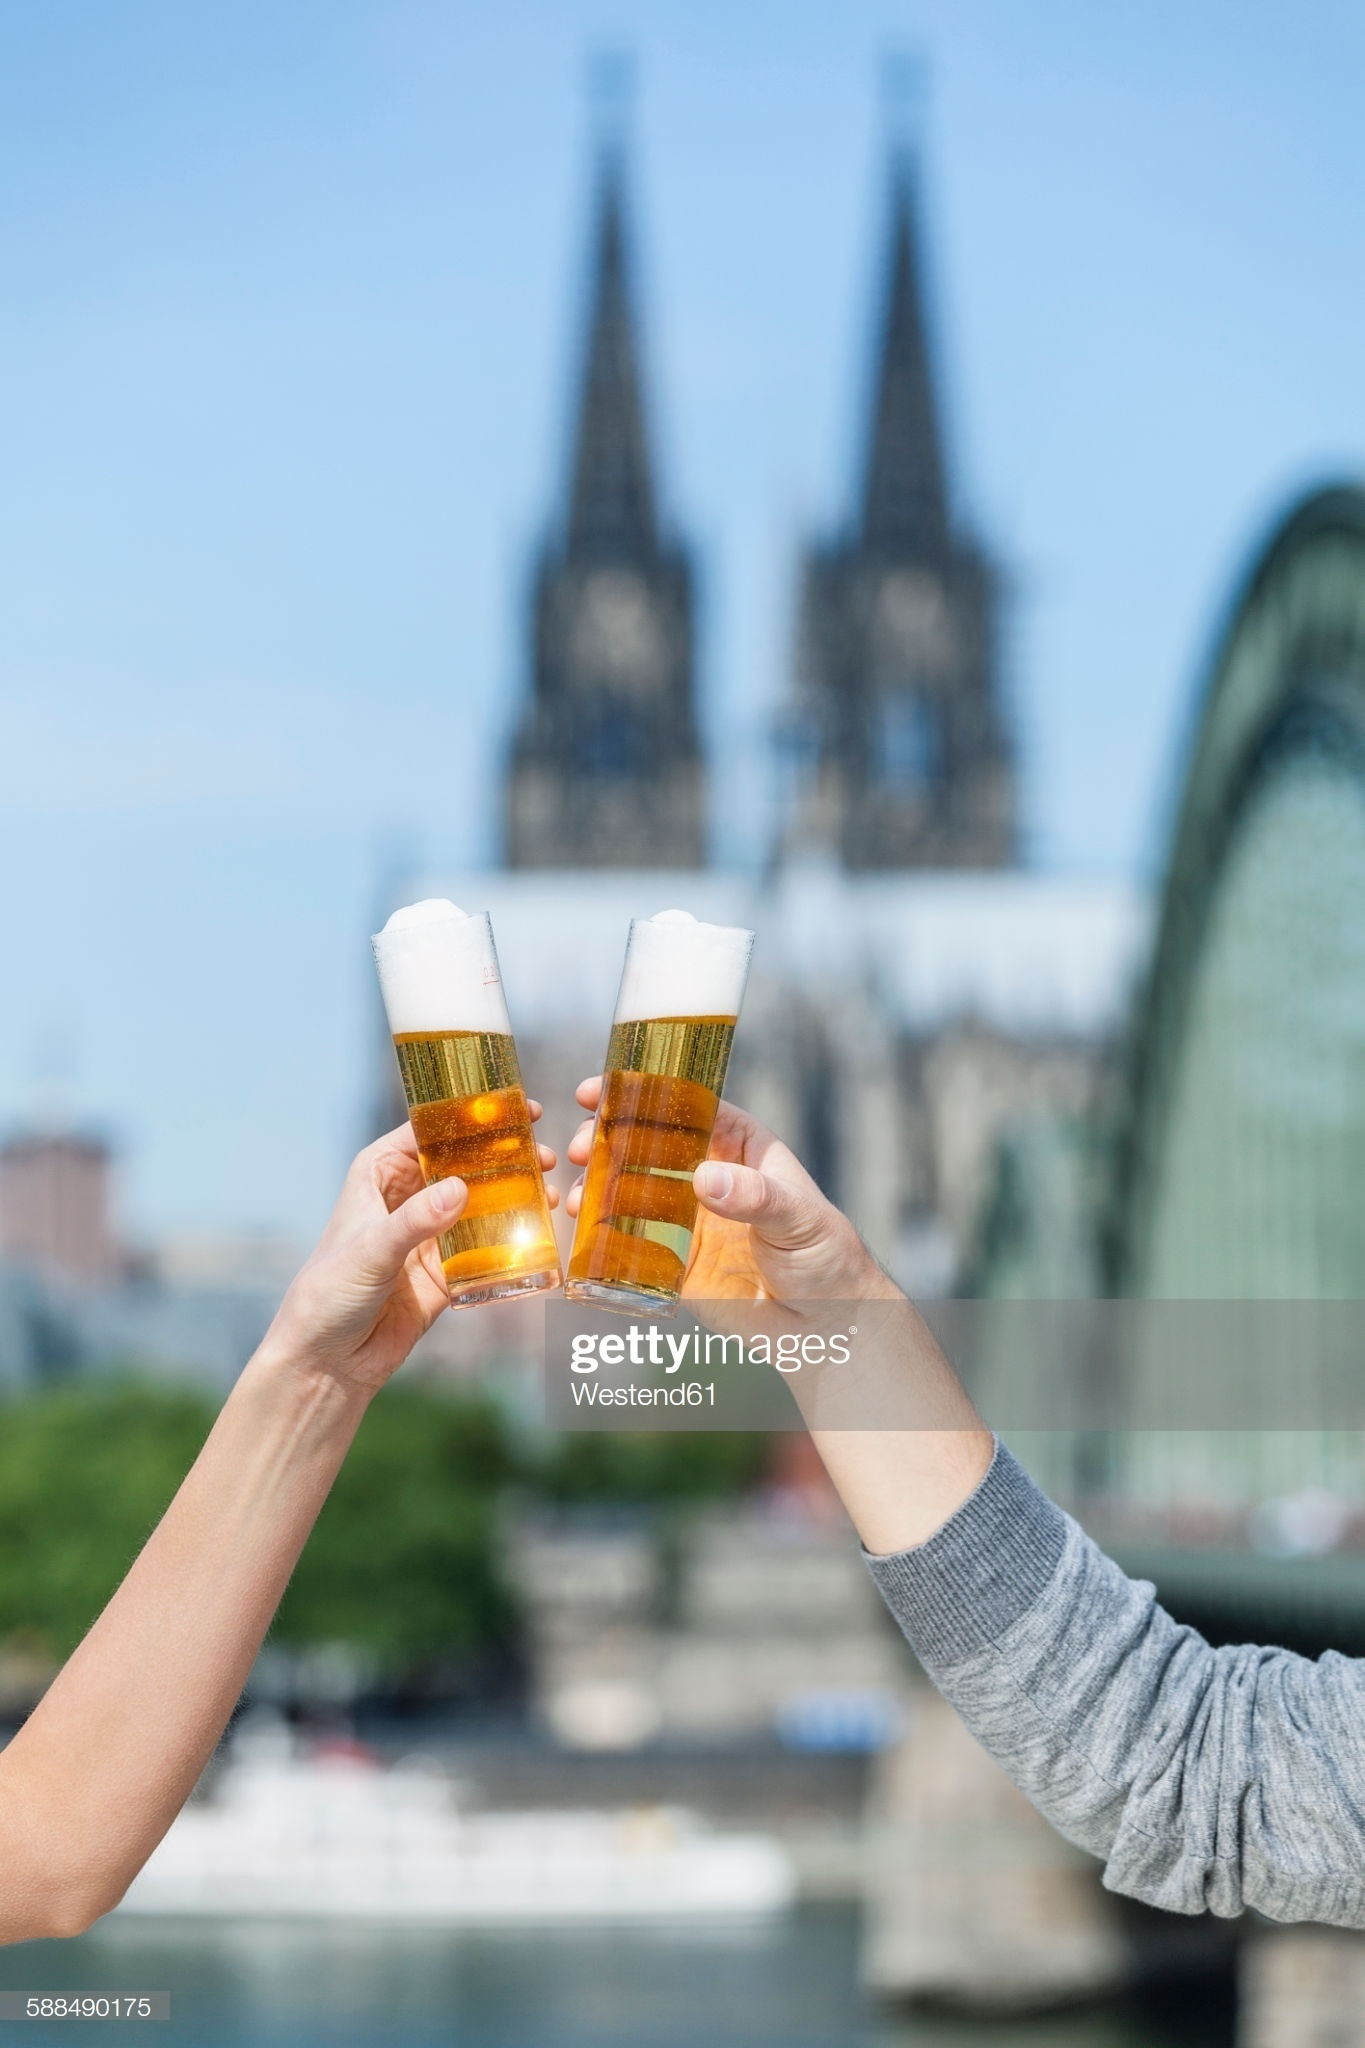whiskey: (369, 904, 565, 1300), (580, 917, 765, 1317)
